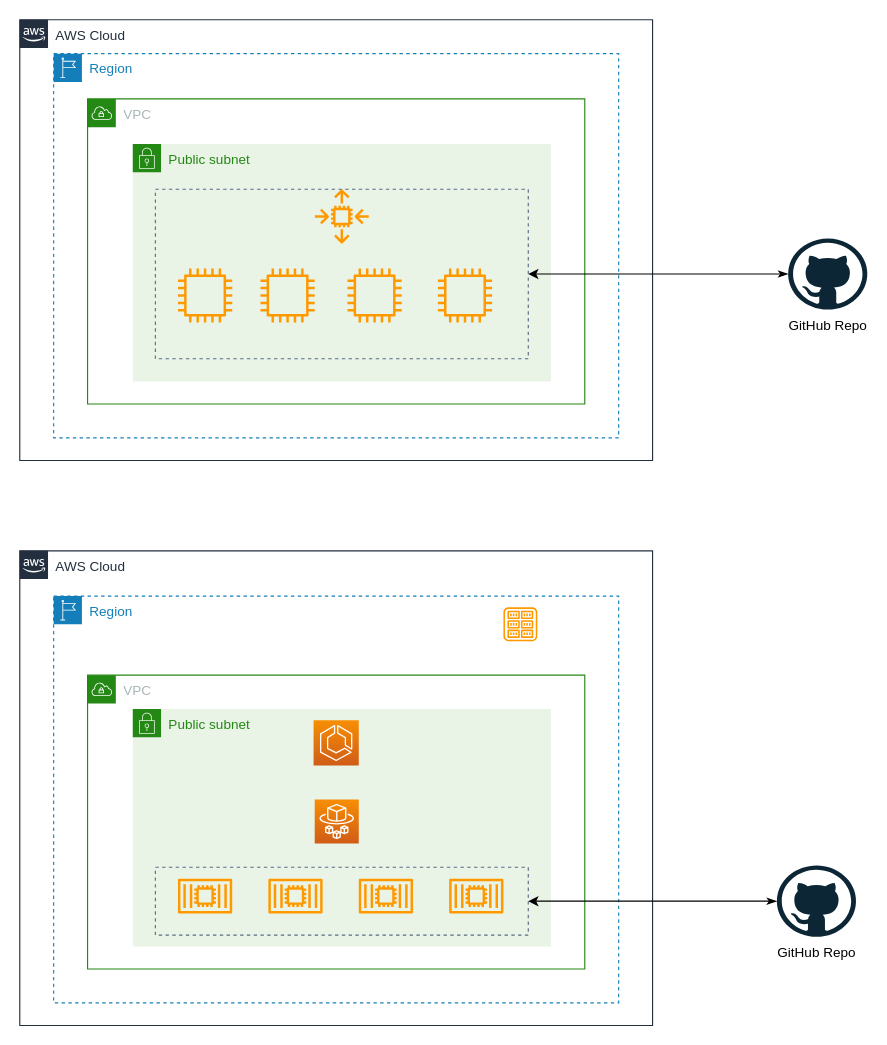
The diagram is 887 pixels wide and 1045 high, and some of its shapes have lost their labels. The shapes that lost their labels are listed below. From the top down, each one's box as (x1, y1, x2, y2) in pixels, then its label:
(154, 188, 528, 359): EC2 AutoScaling Group
(503, 607, 537, 641): GitHub Runners ECR
(312, 719, 359, 766): ECS
(314, 798, 359, 844): Fargate
(154, 866, 528, 935): ECS Tasks
